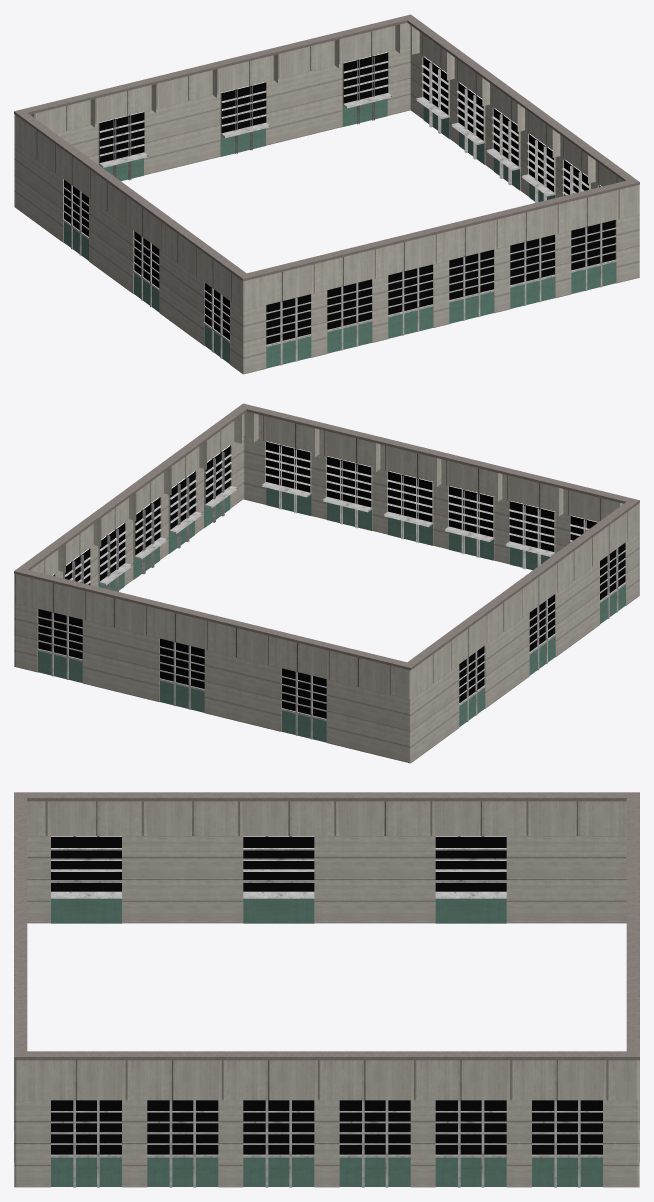
File: BuildingD_Top_Shell_VarA.fbx
3 renders of one model, top to bottom at view 1: azimuth 30°, elevation 25°; view 2: azimuth 150°, elevation 25°; view 3: azimuth 270°, elevation 25°, orthographic. The views are drawn at different scales.
Visible parts, largest first — view 1: BuildingD_Top_Shell_VarA; view 2: BuildingD_Top_Shell_VarA; view 3: BuildingD_Top_Shell_VarA.
Part boxes in pixels (x1,y1,x2,y2): BuildingD_Top_Shell_VarA: [14, 14, 639, 374]; BuildingD_Top_Shell_VarA: [14, 403, 639, 763]; BuildingD_Top_Shell_VarA: [14, 792, 639, 1187].
Bounding box in the file's own units: 2604 × 600 × 2604.
